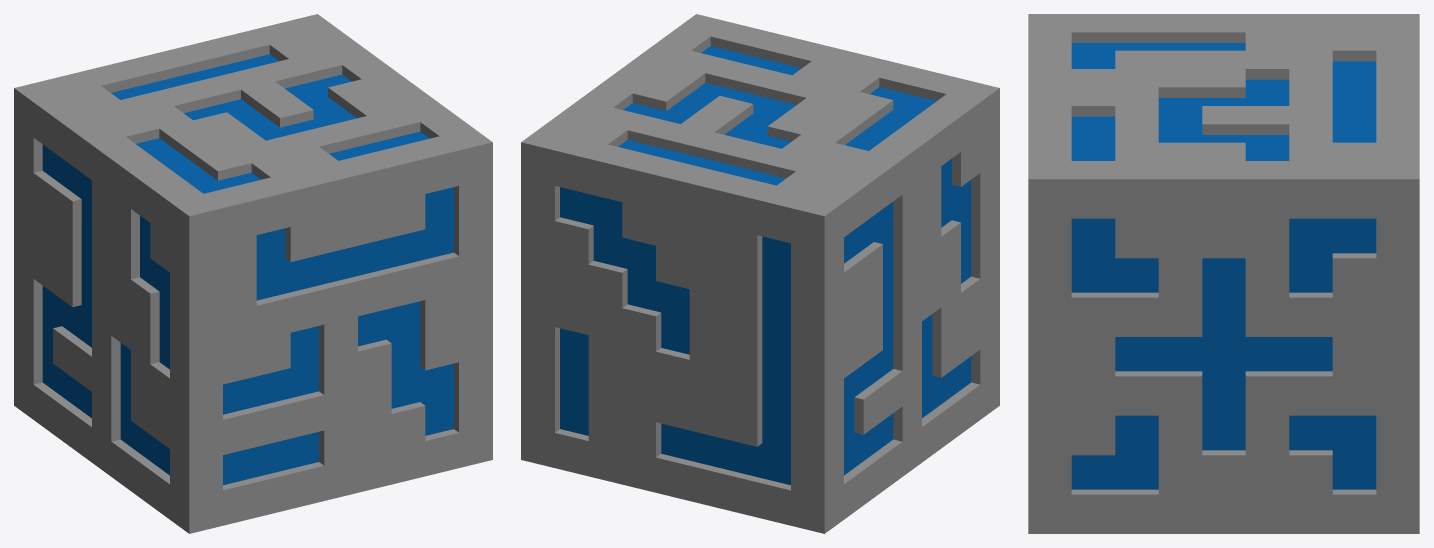
The model's file is Bloc06_fige.FBX.
3 renders of one model, left to right at view 1: azimuth 30°, elevation 25°; view 2: azimuth 150°, elevation 25°; view 3: azimuth 270°, elevation 25°, orthographic. The views are drawn at different scales.
Visible parts, largest first — view 1: Bloc_06_fige; view 2: Bloc_06_fige; view 3: Bloc_06_fige.
Boxes of the visible parts, x1,y1,x2,y2 form: Bloc_06_fige: [14, 14, 492, 533]; Bloc_06_fige: [521, 14, 999, 533]; Bloc_06_fige: [1028, 14, 1419, 533].
Size of the model in its own units: 100 by 100 by 100.
